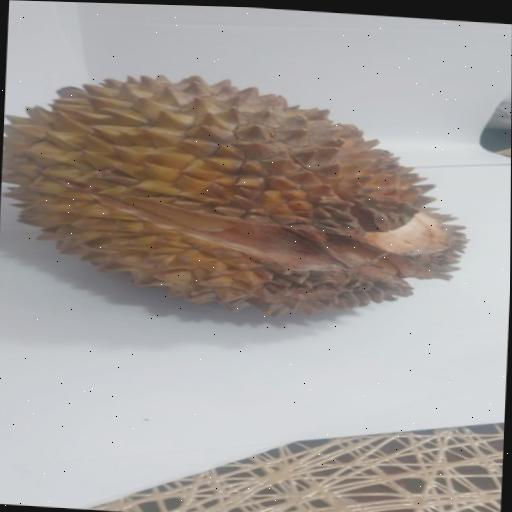rot: (0, 46, 496, 349)
